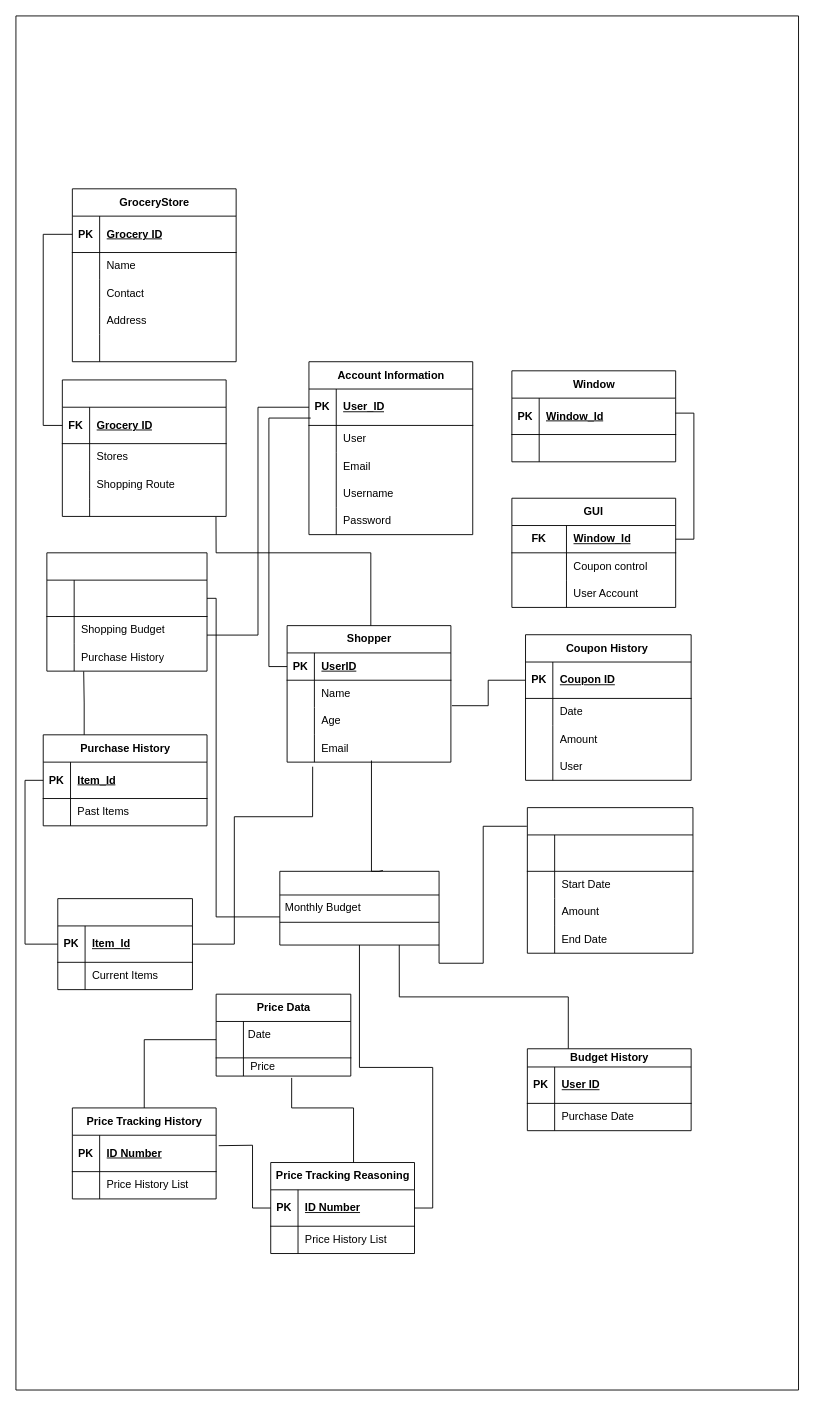
Image size: 814x1406. Some labels were removed from this diagram. The box of each missing label's shape, as (x1, y1, x2, y2) in pixels:
Budget: (526, 807, 693, 953)
Recommendation Algorithm: (46, 552, 207, 671)
SearchService: (61, 379, 226, 516)
Shopper List: (57, 898, 192, 990)
ShoppingBudget: (279, 870, 439, 945)
